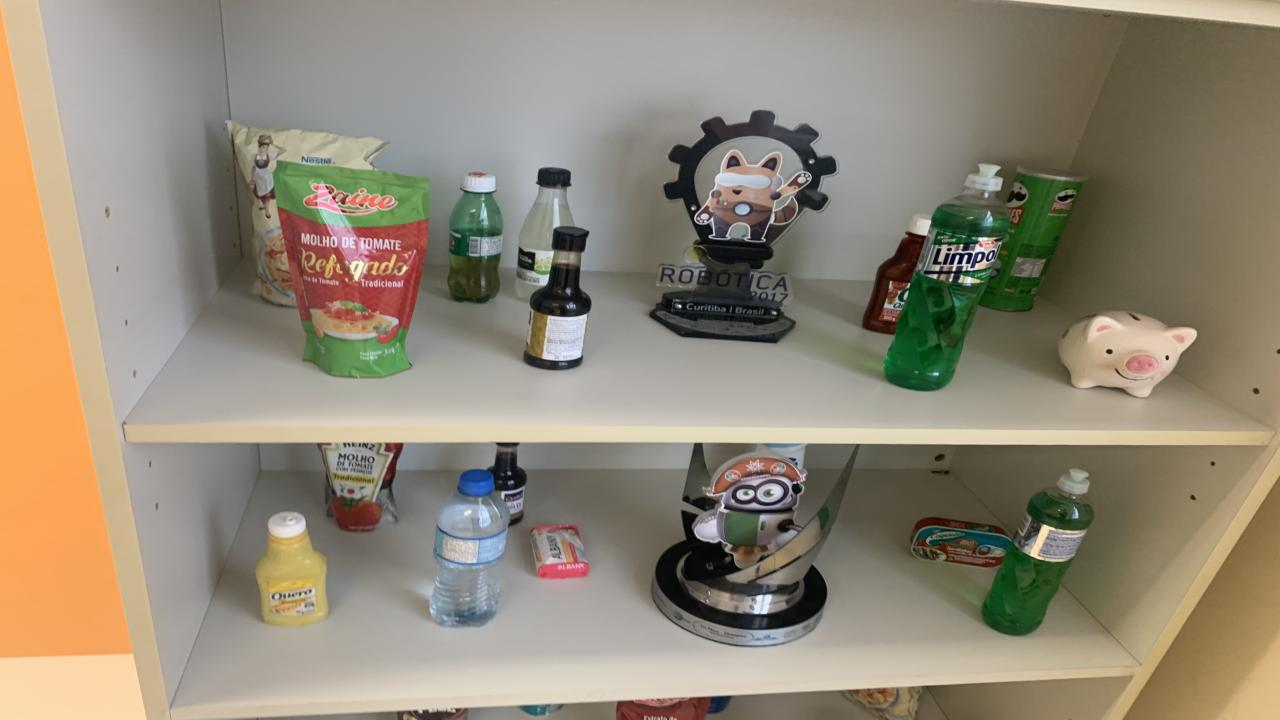Coffee-Pantry_Items: (398, 707, 468, 720)
Detergent-Cleanup_Items: (885, 165, 1010, 390), (982, 469, 1095, 636)
English_Sauce-Pantry_Items: (522, 227, 590, 369), (488, 442, 528, 525)
Flakes-Snacks: (228, 122, 388, 306), (842, 686, 922, 720)
Guarana-Drinks: (448, 172, 502, 304)
Ketchup-Pantry_Items: (862, 214, 930, 334)
Mustard-Pantry_Items: (255, 512, 330, 626)
Pig_Safe-Miscellaneous: (1058, 311, 1198, 398)
Pringles-Snacks: (980, 165, 1088, 311)
Soap-Cleanup_Items: (530, 525, 590, 579)
Soda-Drinks: (515, 167, 575, 300)
Tea-Drinks: (520, 703, 562, 716)
Tomato_Sauce-Pantry_Items: (275, 163, 430, 377), (318, 442, 402, 532), (618, 698, 710, 720)
Trophy-Miscellaneous: (650, 112, 835, 343)
Tuna_Can-Pantry_Items: (910, 518, 1010, 568)
Water_Bottle-Drinks: (430, 469, 510, 626)
